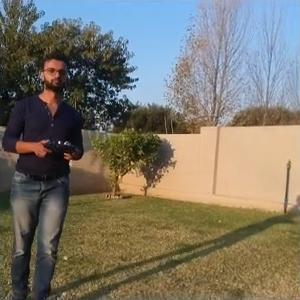follow: (0, 48, 82, 298)
